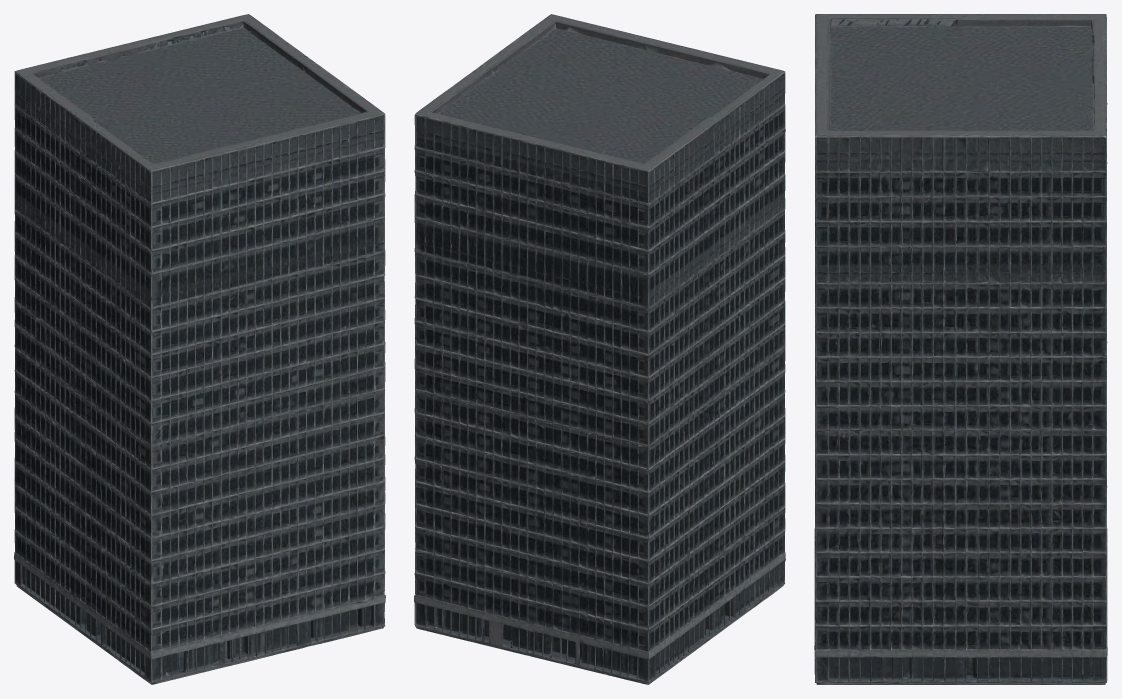
File: c13e11a4-7af5-446b-b5f6-023ea7eab227.glb
3 renders of one model, left to right at view 1: azimuth 30°, elevation 25°; view 2: azimuth 150°, elevation 25°; view 3: azimuth 270°, elevation 25°, orthographic. The views are drawn at different scales.
Bounding box in the file's own units: 0.9096 × 1.9 × 0.9192.
Materials: 1 (1 with a texture image).
